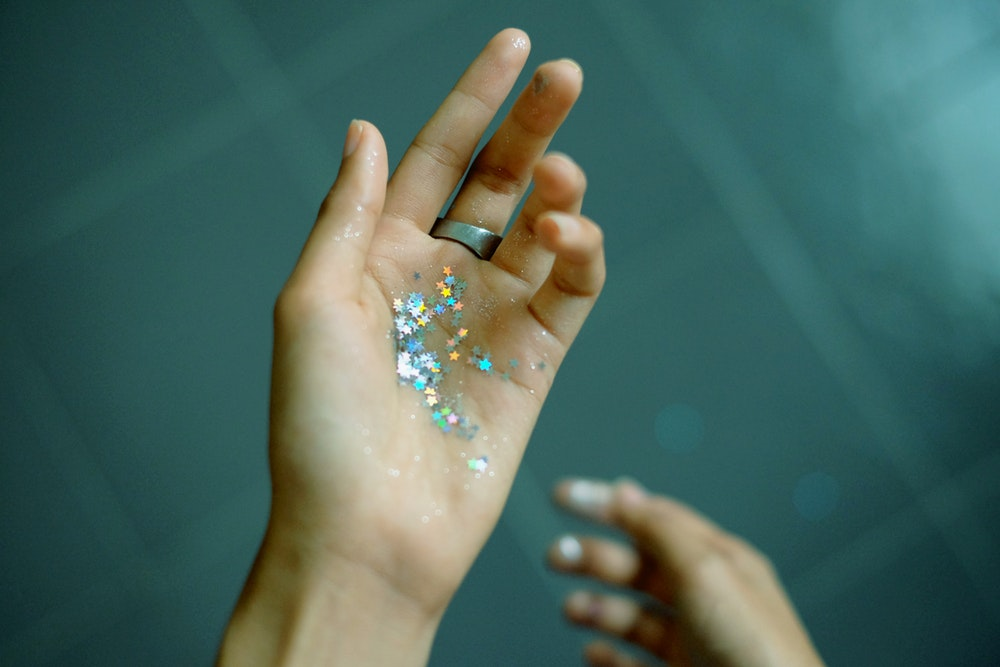palm: (334, 239, 527, 551)
